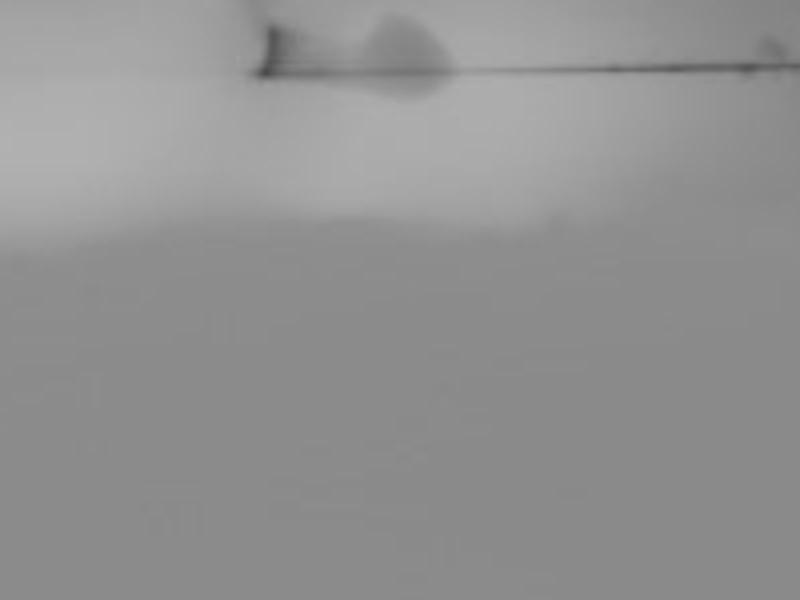defect: (362, 20, 450, 96)
